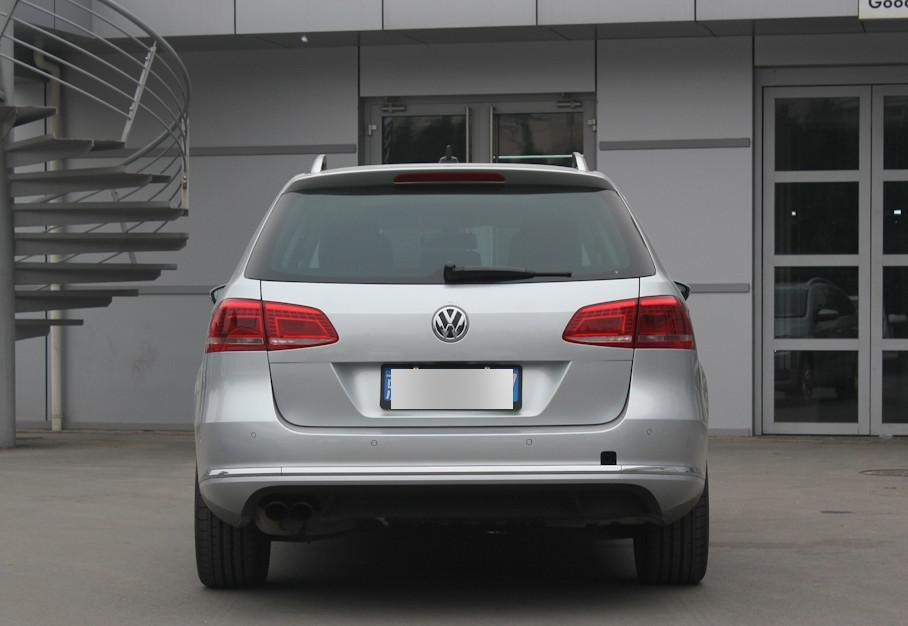Wagon: (191, 142, 713, 591)
